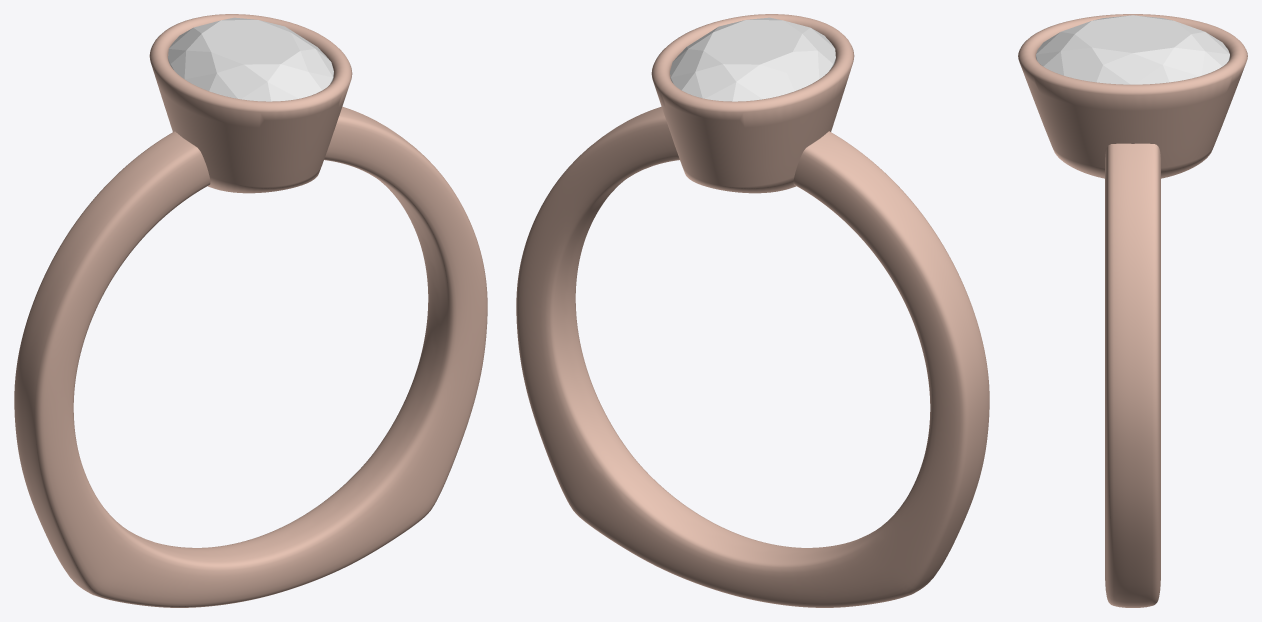
File: diamond-oval-rosegold-bezelset-europeanshank-nosidestones.glb
3 renders of one model, left to right at view 1: azimuth 30°, elevation 25°; view 2: azimuth 150°, elevation 25°; view 3: azimuth 270°, elevation 25°, orthographic. The views are drawn at different scales.
Parts seen in each view (by area): view 1: metal, stone; view 2: metal, stone; view 3: metal, stone.
Boxes of the visible parts, x1,y1,x2,y2 form: metal: [14, 14, 487, 607]; stone: [168, 17, 333, 101]; metal: [516, 14, 989, 607]; stone: [670, 17, 835, 101]; metal: [1018, 14, 1247, 607]; stone: [1036, 15, 1229, 84].
Bounding box in the file's own units: 20.11 × 23.21 × 9.04.
